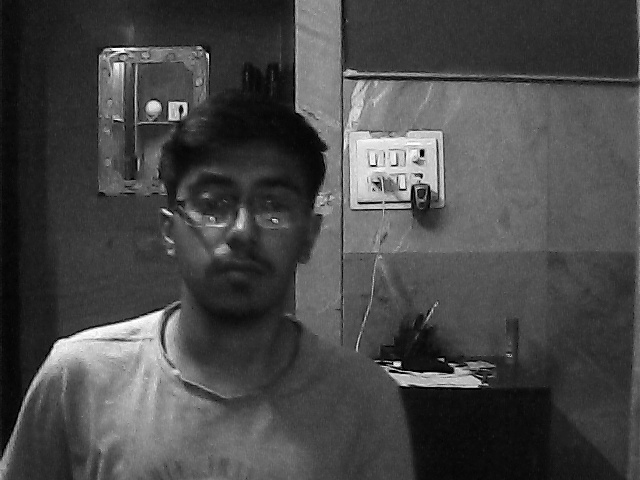nomask: (171, 147, 314, 320)
